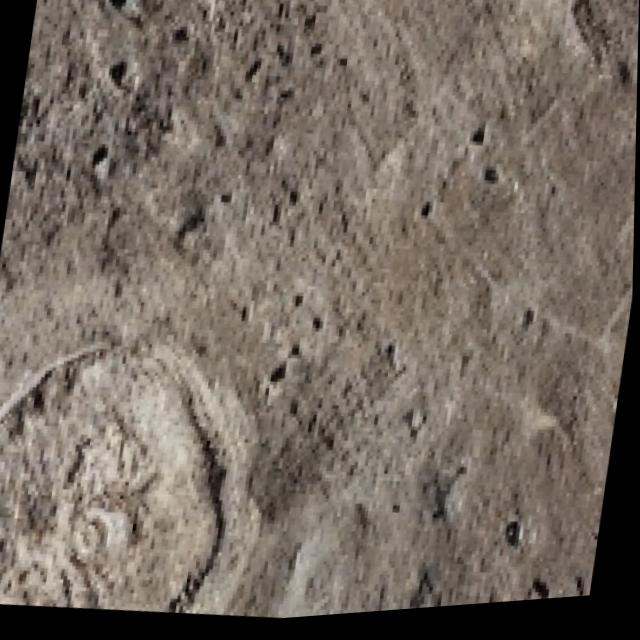Crater: (0, 317, 300, 636)
